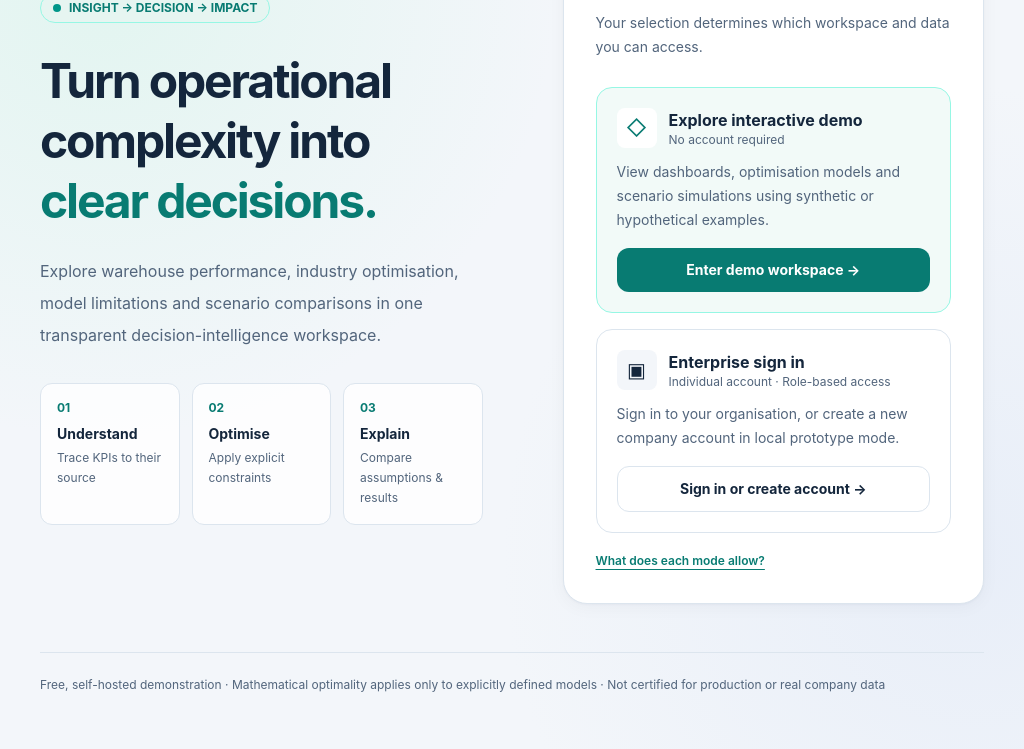
Test: explains demo versus private enterprise access without promising unrestricted data
(page scrolled)
Click the button "What does each mode allow?".
click(680, 561)  # box [596,553,765,569]
(page scrolled)
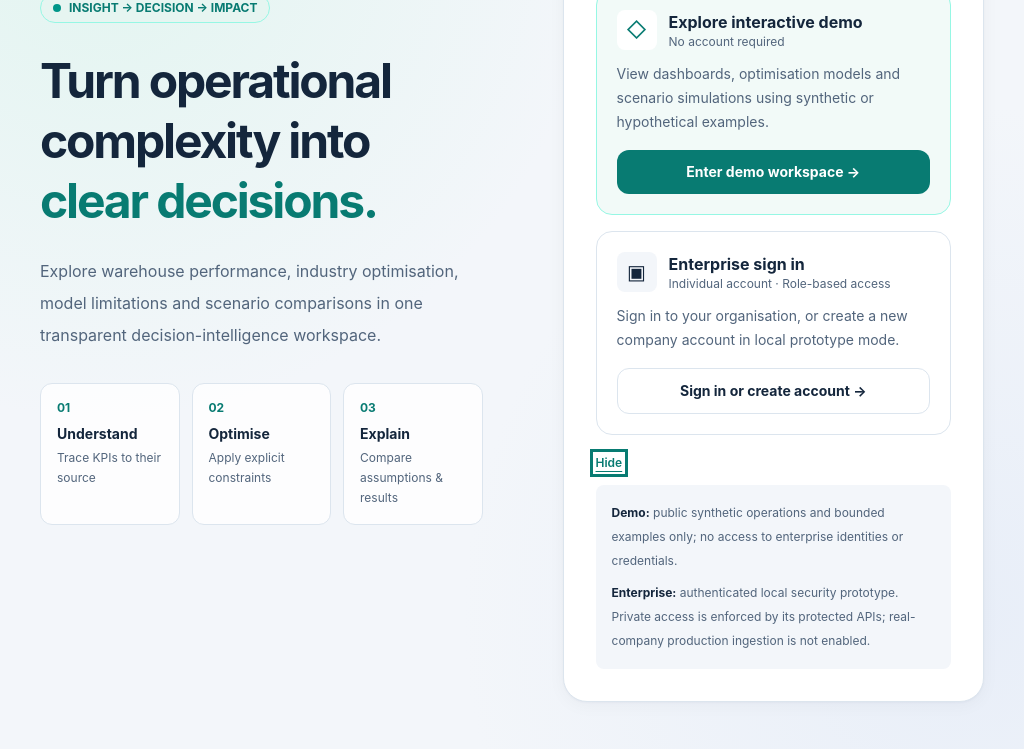
Expected: the text "no access to enterprise identities or credentials" is shown, [612,505,903,568]
